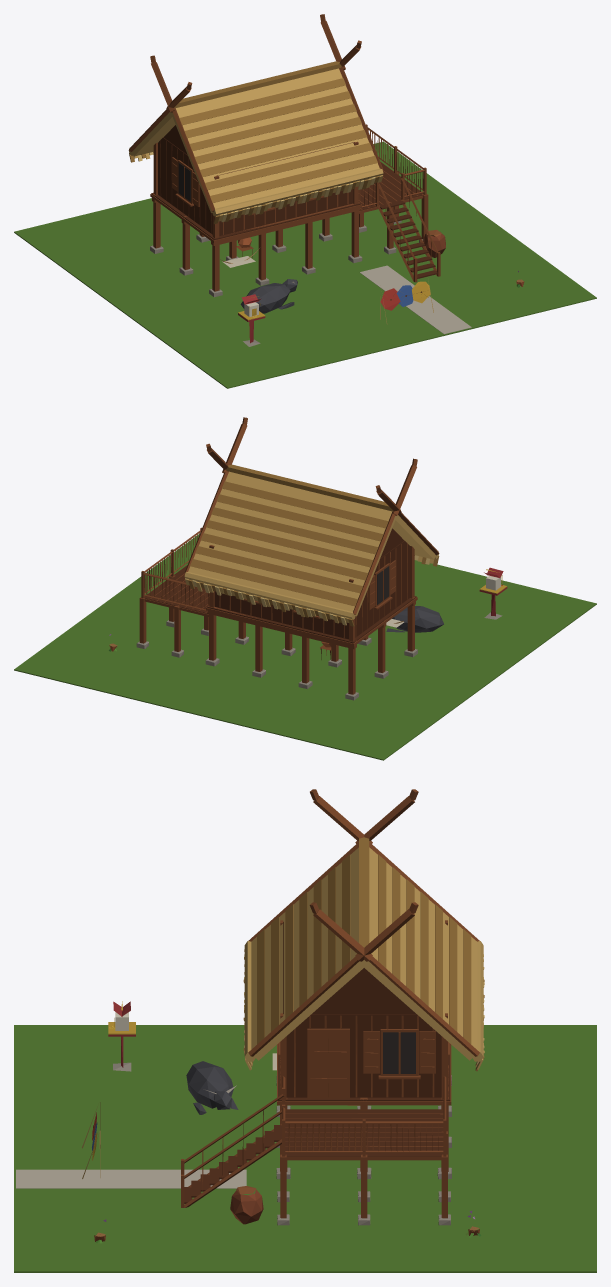
Rendered from home_2.glb.
3 renders of one model, top to bottom at view 1: azimuth 30°, elevation 25°; view 2: azimuth 150°, elevation 25°; view 3: azimuth 270°, elevation 25°, orthographic. The views are drawn at different scales.
Parts seen in each view (by area): view 1: body; view 2: body; view 3: body, windows.
Part boxes in pixels (bbox=[...]): body: bbox=[14, 14, 596, 388]; body: bbox=[14, 417, 596, 760]; body: bbox=[14, 789, 596, 1272]; windows: bbox=[383, 1032, 415, 1073].
Size of the model in its own units: 15.9 by 8.78 by 15.9.
